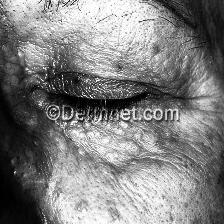Benign Marking or Mole: (57, 121, 149, 169)
